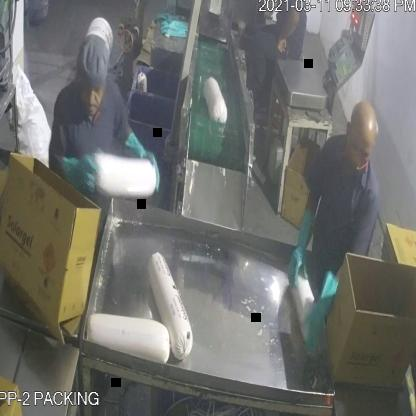glove: (302, 264, 340, 363), (283, 193, 317, 288)
no_glove: (271, 4, 302, 55)
